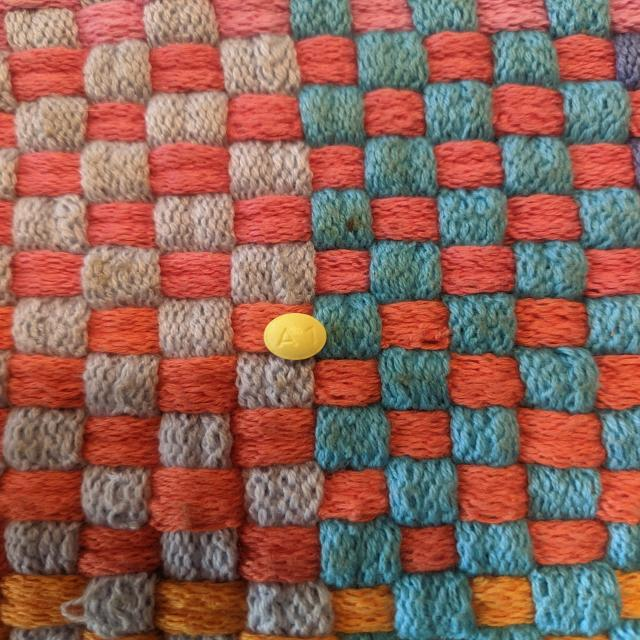non-organic waste: (259, 308, 328, 370)
